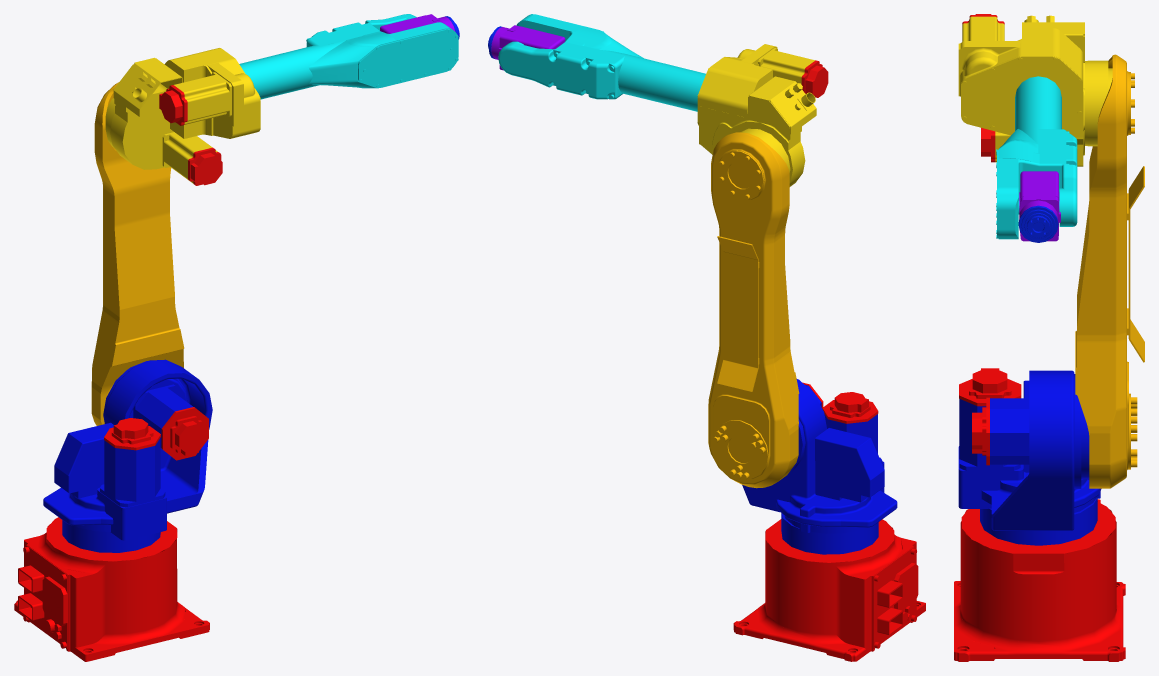
3 views of the same model, side by side, from view 1: azimuth 30°, elevation 25°; view 2: azimuth 150°, elevation 25°; view 3: azimuth 270°, elevation 25° (orthographic). The views are drawn at different scales.
Visible parts, largest first — view 1: RobotMA, RobotMsite, RobotMB, RobotMC, RobotMD, RobotME; view 2: RobotMB, RobotMsite, RobotMA, RobotMC, RobotMD, RobotME; view 3: RobotMsite, RobotMA, RobotMB, RobotMC, RobotMD, RobotME, RobotMF.
Part boxes in pixels (x1,y1,x2,y2): RobotMA: [43, 359, 212, 552]; RobotMsite: [14, 517, 209, 661]; RobotMB: [91, 82, 184, 425]; RobotMC: [105, 48, 260, 185]; RobotMD: [239, 14, 458, 99]; RobotME: [380, 14, 455, 33]; RobotMB: [708, 132, 799, 488]; RobotMsite: [733, 519, 925, 661]; RobotMA: [742, 379, 897, 554]; RobotMC: [697, 44, 828, 186]; RobotMD: [498, 14, 705, 111]; RobotME: [491, 25, 565, 70]; RobotMsite: [954, 499, 1125, 661]; RobotMA: [958, 368, 1101, 545]; RobotMB: [1075, 54, 1144, 488]; RobotMC: [958, 14, 1112, 166]; RobotMD: [996, 76, 1077, 239]; RobotME: [1018, 171, 1060, 241]; RobotMF: [1018, 205, 1058, 242].
Bounding box in the file's own units: 47.74 × 58.66 × 15.98.
